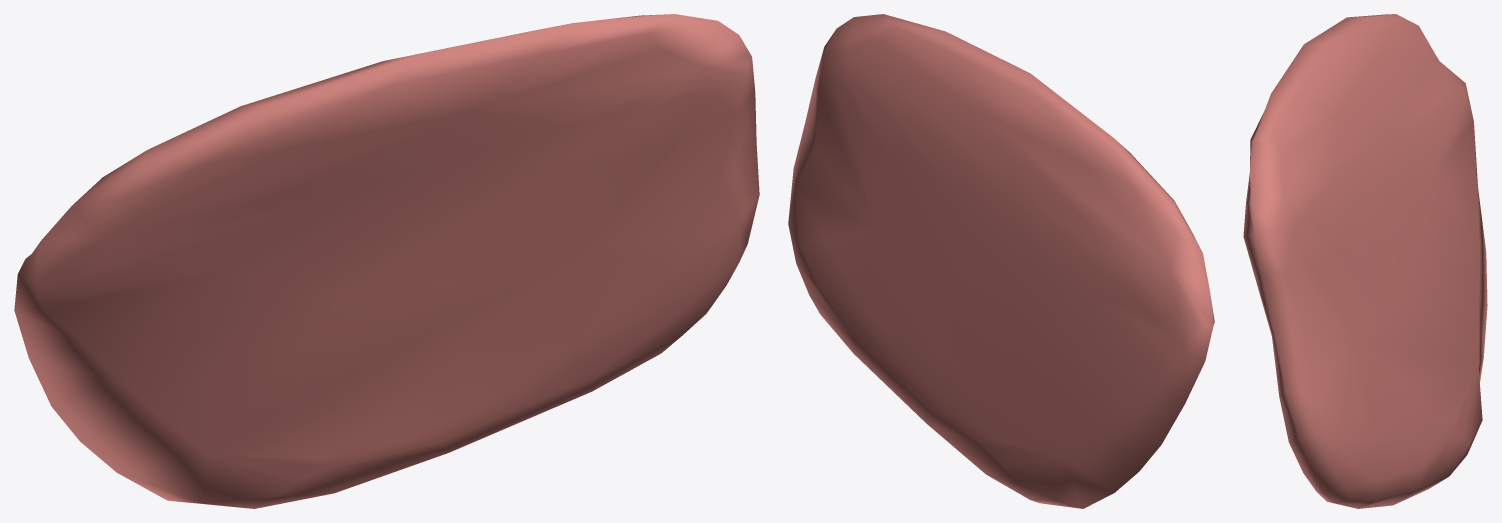
3 renders of one model, left to right at view 1: azimuth 30°, elevation 25°; view 2: azimuth 150°, elevation 25°; view 3: azimuth 270°, elevation 25°, orthographic. The views are drawn at different scales.
Visible parts, largest first — view 1: ZA_5878e2d23054909e; view 2: ZA_5878e2d23054909e; view 3: ZA_5878e2d23054909e.
Part boxes in pixels (x1,y1,x2,y2): ZA_5878e2d23054909e: (14, 14, 759, 508); ZA_5878e2d23054909e: (788, 14, 1214, 508); ZA_5878e2d23054909e: (1243, 14, 1487, 508).
Bounding box in the file's own units: 0.0071 × 0.00523 × 0.00248.
